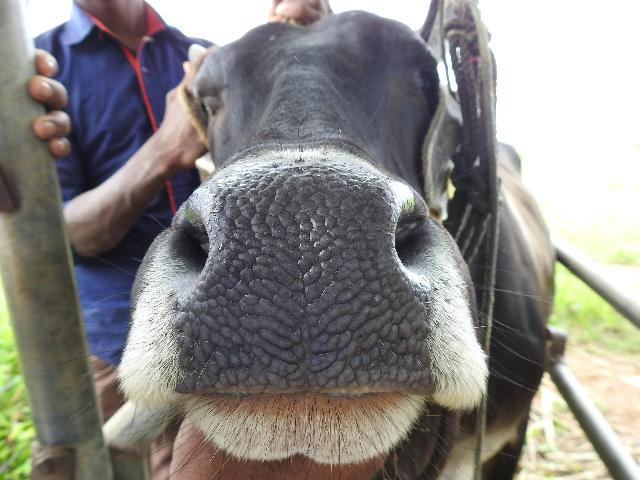Muzzle: (215, 174, 398, 389)
